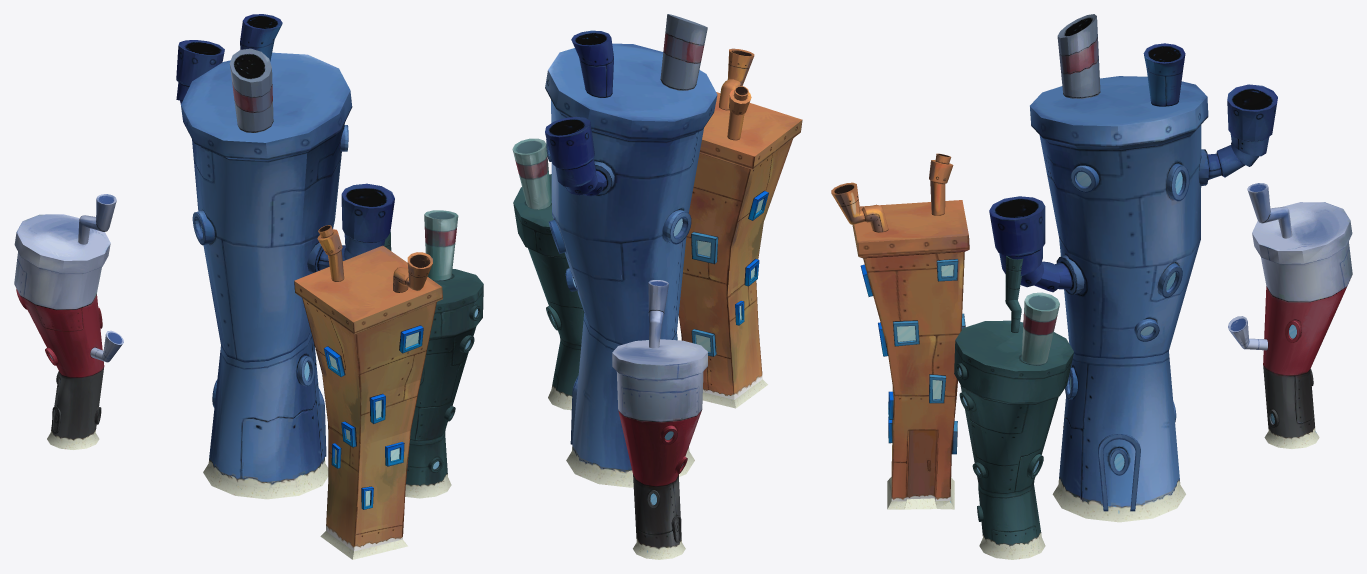
The model's file is down_town_bikini_bottom_tscp.glb.
3 views of the same model, side by side, from view 1: azimuth 30°, elevation 25°; view 2: azimuth 150°, elevation 25°; view 3: azimuth 270°, elevation 25° (orthographic). The views are drawn at different scales.
Parts seen in each view (by area): view 1: Object_2; view 2: Object_2; view 3: Object_2.
Part boxes in pixels (x1,y1,x2,y2): Object_2: [14, 14, 483, 559]; Object_2: [512, 14, 802, 559]; Object_2: [831, 14, 1352, 559].
Bounding box in the file's own units: 90.73 × 120 × 124.
1 material, 1 textured.
